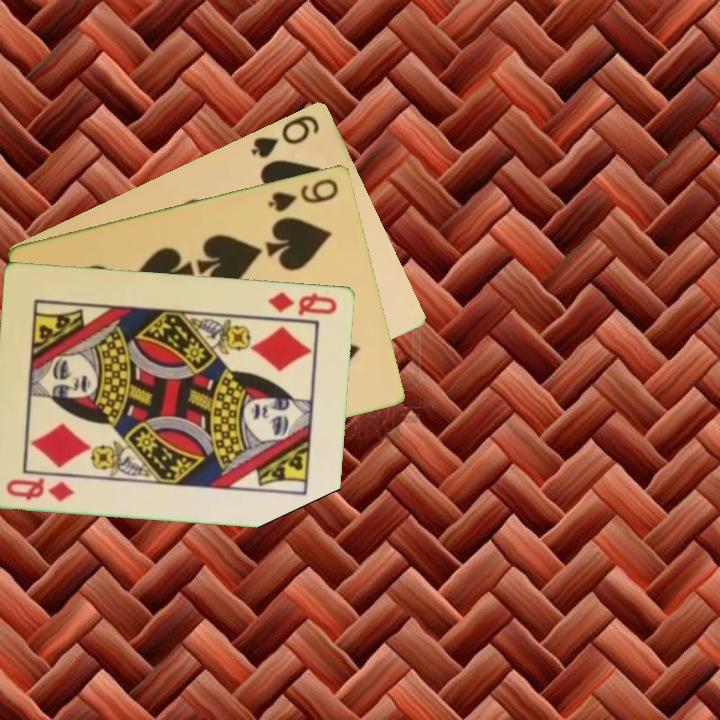6s: (247, 111, 323, 161)
9s: (265, 174, 342, 215)
Qd: (264, 288, 340, 318), (3, 474, 78, 504)
